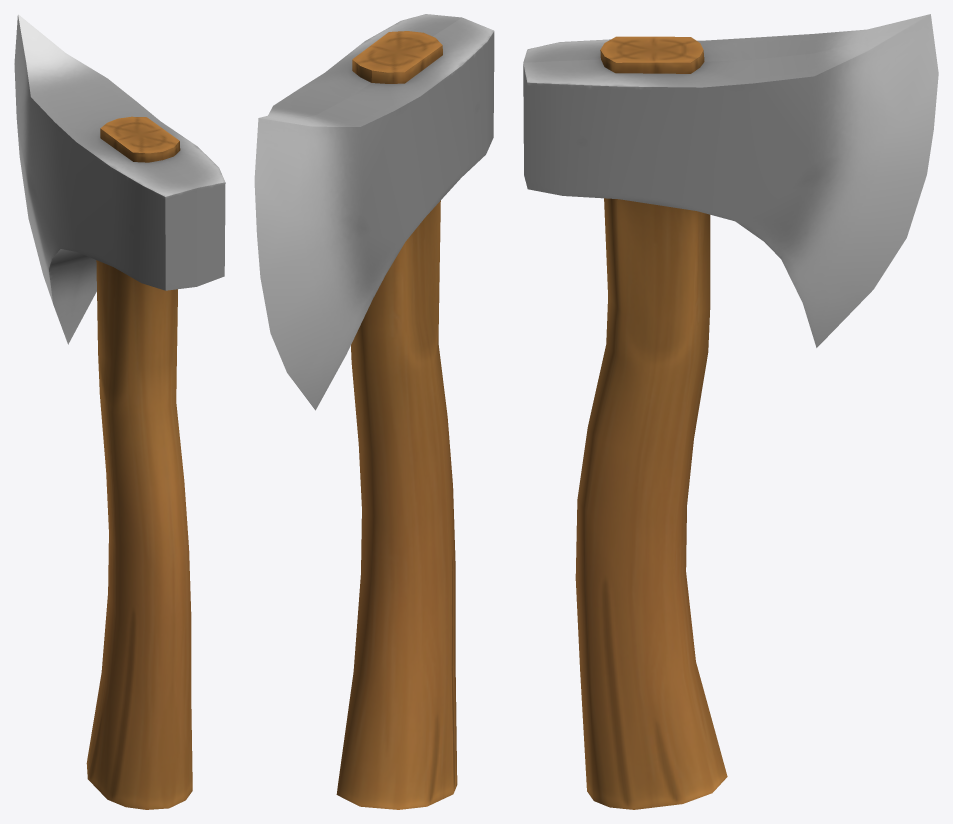
The model's file is MeleeWeaponAgent_SmallAxe.fbx.
The picture shows the model from 3 angles, left to right: view 1: azimuth 30°, elevation 25°; view 2: azimuth 150°, elevation 25°; view 3: azimuth 270°, elevation 25°; orthographic projection. The views are drawn at different scales.
Parts seen in each view (by area): view 1: SM_Axe; view 2: SM_Axe; view 3: SM_Axe.
Boxes of the visible parts, bbox=[...] form: SM_Axe: bbox=[14, 14, 225, 809]; SM_Axe: bbox=[254, 14, 494, 809]; SM_Axe: bbox=[523, 14, 938, 809].
Size of the model in its own units: 0.1424 by 1.06 by 0.5137.
1 material, 1 textured.
